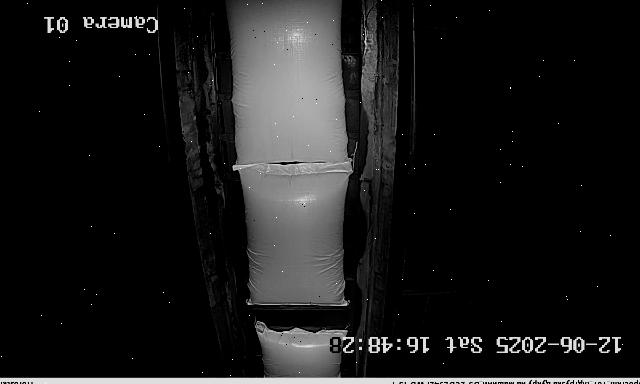bag: (225, 0, 349, 170), (238, 164, 352, 306), (255, 321, 348, 377)
